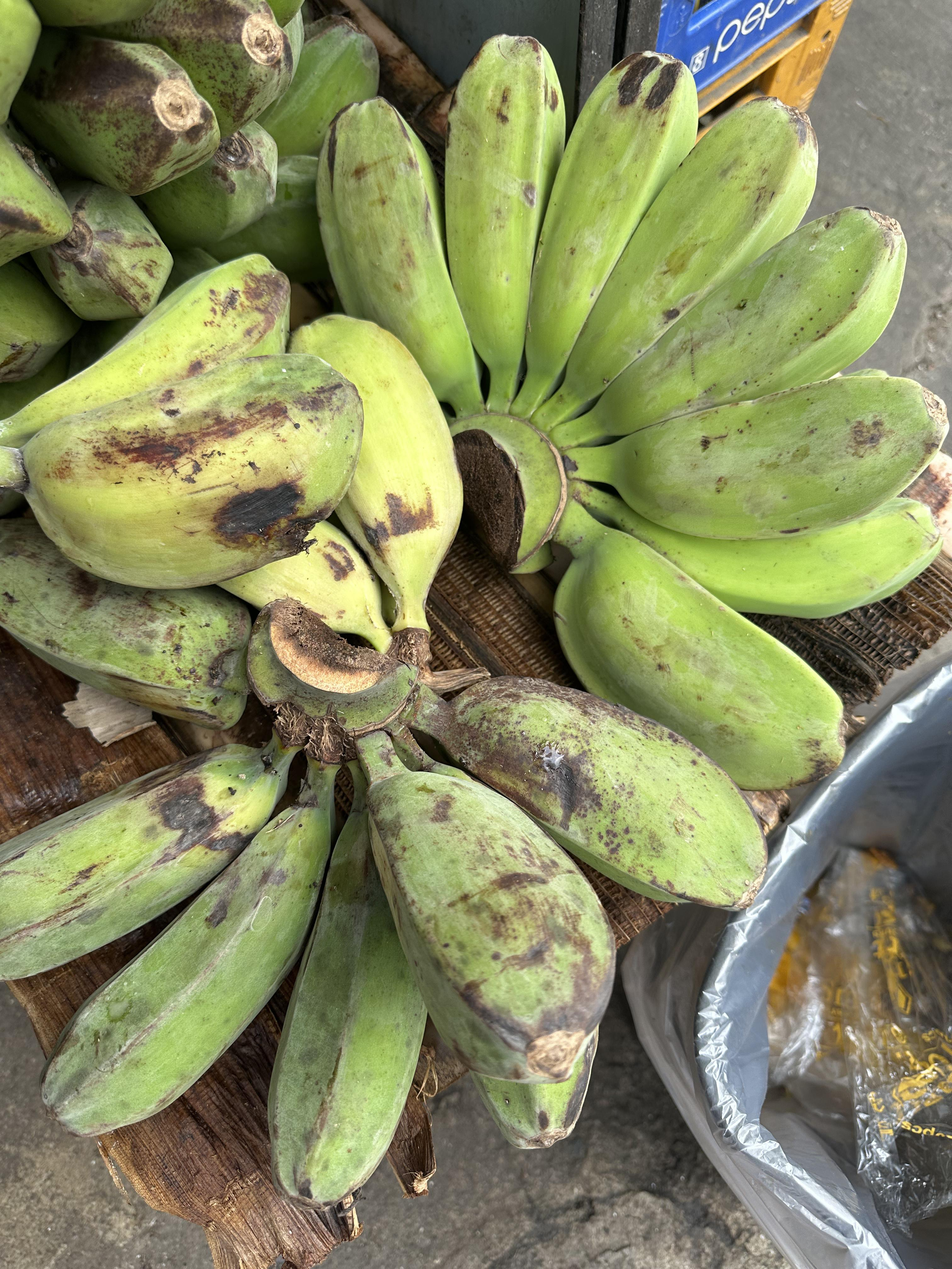underripe: (315, 34, 951, 792), (0, 674, 769, 1210), (11, 253, 363, 590), (0, 0, 305, 385), (218, 316, 465, 634)
